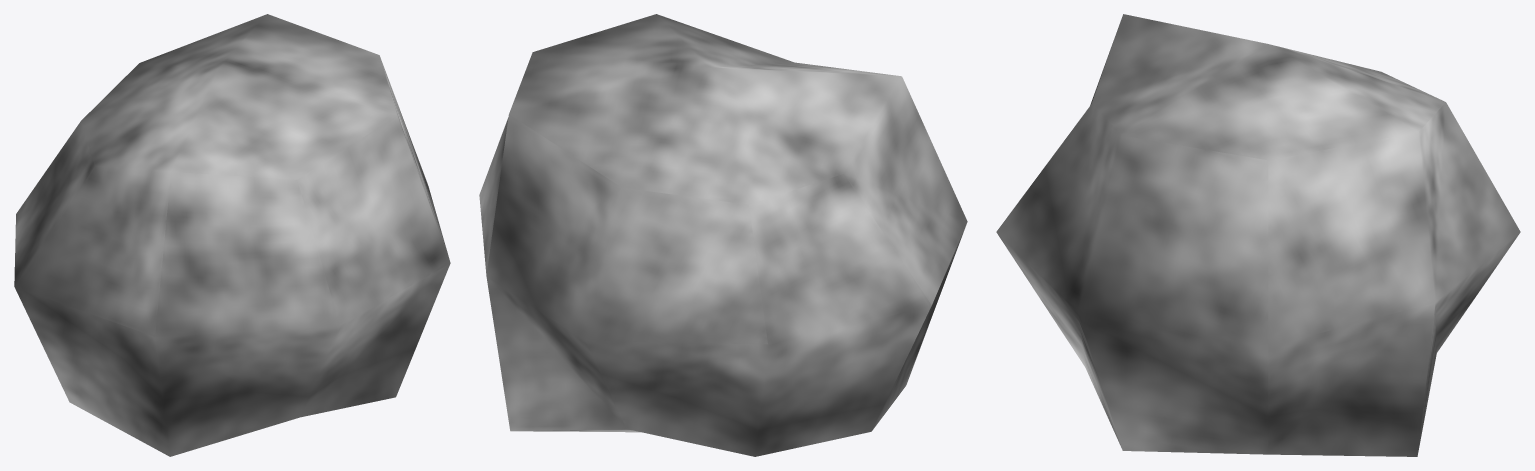
Rendered from asteroid4.obj.
3 renders of one model, left to right at view 1: azimuth 30°, elevation 25°; view 2: azimuth 150°, elevation 25°; view 3: azimuth 270°, elevation 25°, orthographic. The views are drawn at different scales.
Visible parts, largest first — view 1: asteroid_01.006_asteroid.001; view 2: asteroid_01.006_asteroid.001; view 3: asteroid_01.006_asteroid.001.
Boxes of the visible parts, x1,y1,x2,y2 form: asteroid_01.006_asteroid.001: (14,14,450,456); asteroid_01.006_asteroid.001: (479,14,967,456); asteroid_01.006_asteroid.001: (996,14,1520,456).
Bounding box in the file's own units: 3.52 × 2.71 × 3.44.
Materials: 1 (1 with a texture image).
